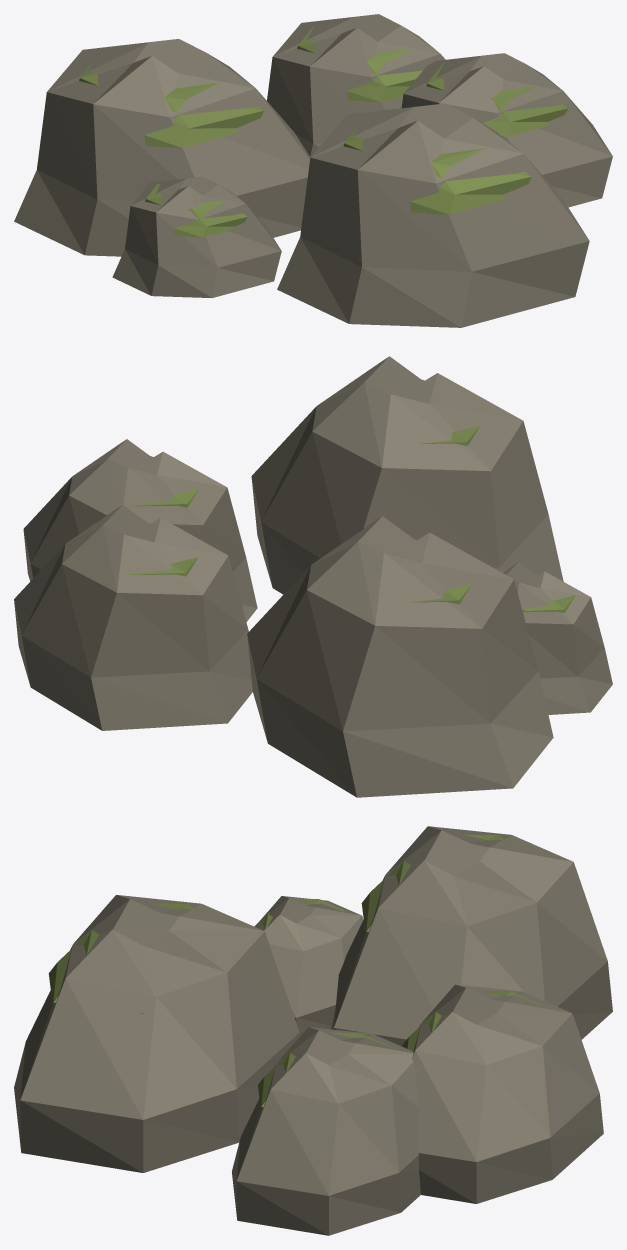
Rendered from moss-rocks.glb.
3 views of the same model, one above another, from view 1: azimuth 30°, elevation 25°; view 2: azimuth 150°, elevation 25°; view 3: azimuth 270°, elevation 25° (orthographic). The views are drawn at different scales.
Visible parts, largest first — view 1: moss-rocks; view 2: moss-rocks; view 3: moss-rocks.
Part boxes in pixels (box(x1,y1,x2,y2)): moss-rocks: box(14, 14, 612, 327); moss-rocks: box(14, 356, 612, 797); moss-rocks: box(14, 826, 612, 1235).
Size of the model in its own units: 2.99 by 0.9705 by 2.73.
